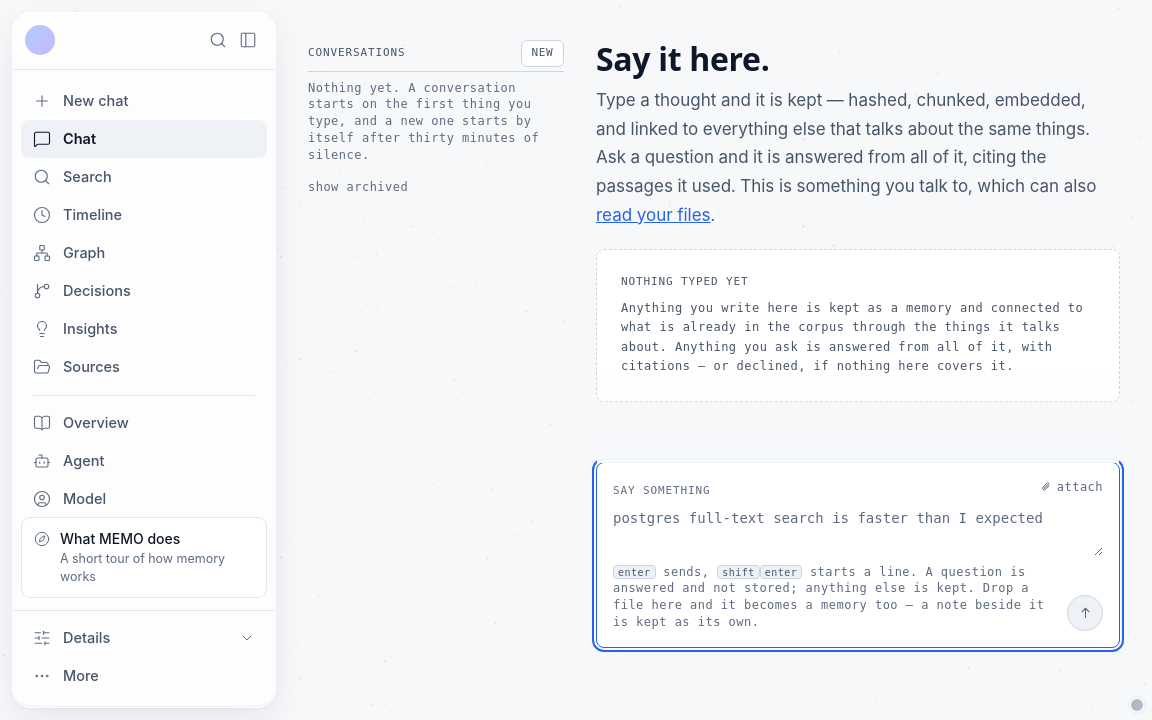
Test: navigation › navigating to Sources renders that route
Click the link "Sources".
click(76, 367)  # box [33,358,120,376]
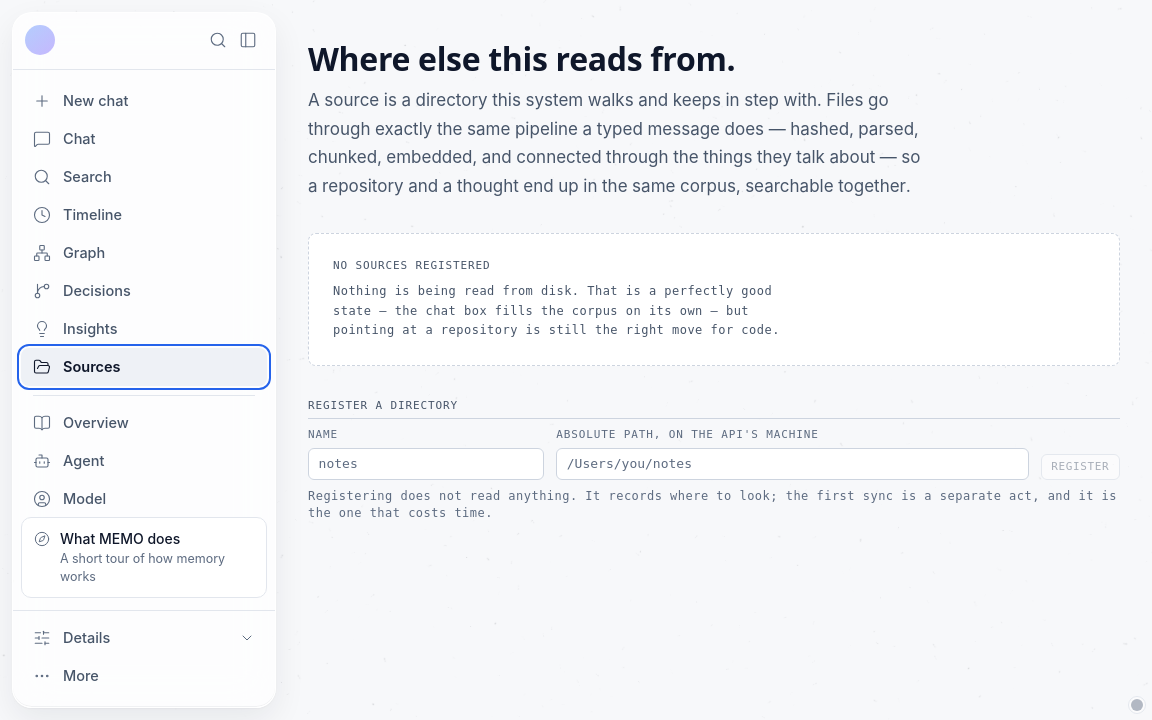
Check: the heading "Where else this reads from." is shown, box [308,37,735,80]
